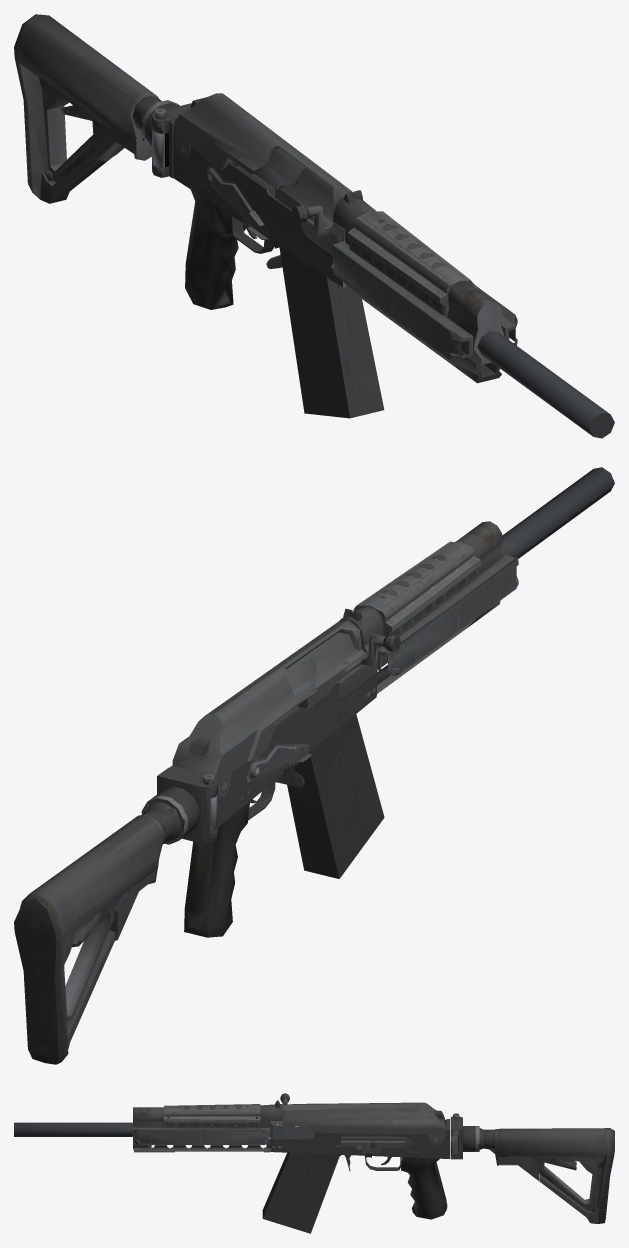
Rendered from Shotgun_Saiga12_Shotgun_Body_Main_(000083).glb.
3 views of the same model, one above another, from view 1: azimuth 30°, elevation 25°; view 2: azimuth 150°, elevation 25°; view 3: azimuth 270°, elevation 25° (orthographic). The views are drawn at different scales.
Parts seen in each view (by area): view 1: SG_saiga12; view 2: SG_saiga12; view 3: SG_saiga12.
Part boxes in pixels (<box>): SG_saiga12: <box>14,14,614,438</box>; SG_saiga12: <box>14,467,614,1064</box>; SG_saiga12: <box>14,1093,614,1233</box>.
Bounding box in the file's own units: 0.0934 × 0.2575 × 1.1.
Materials: 1 (1 with a texture image).
